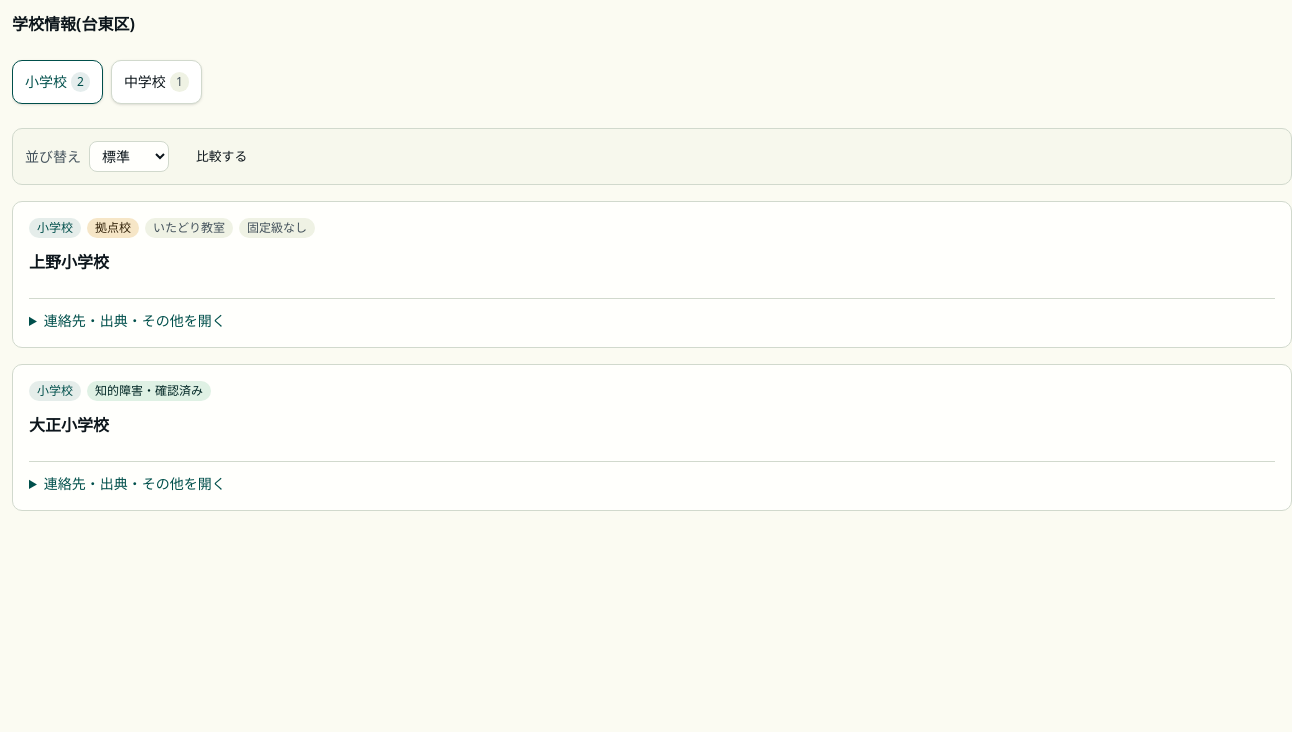
Test: SchoolInfoSection: 分類バッジのクリックによる絞り込み › バッジをクリックすると、そのバッジを持つ学校のみに絞り込み、絞り込み中のチップを表示する
The width and height of the screenshot is (1292, 732).
Click the button "いたどり教室" at (189, 228), box [145, 218, 233, 238]
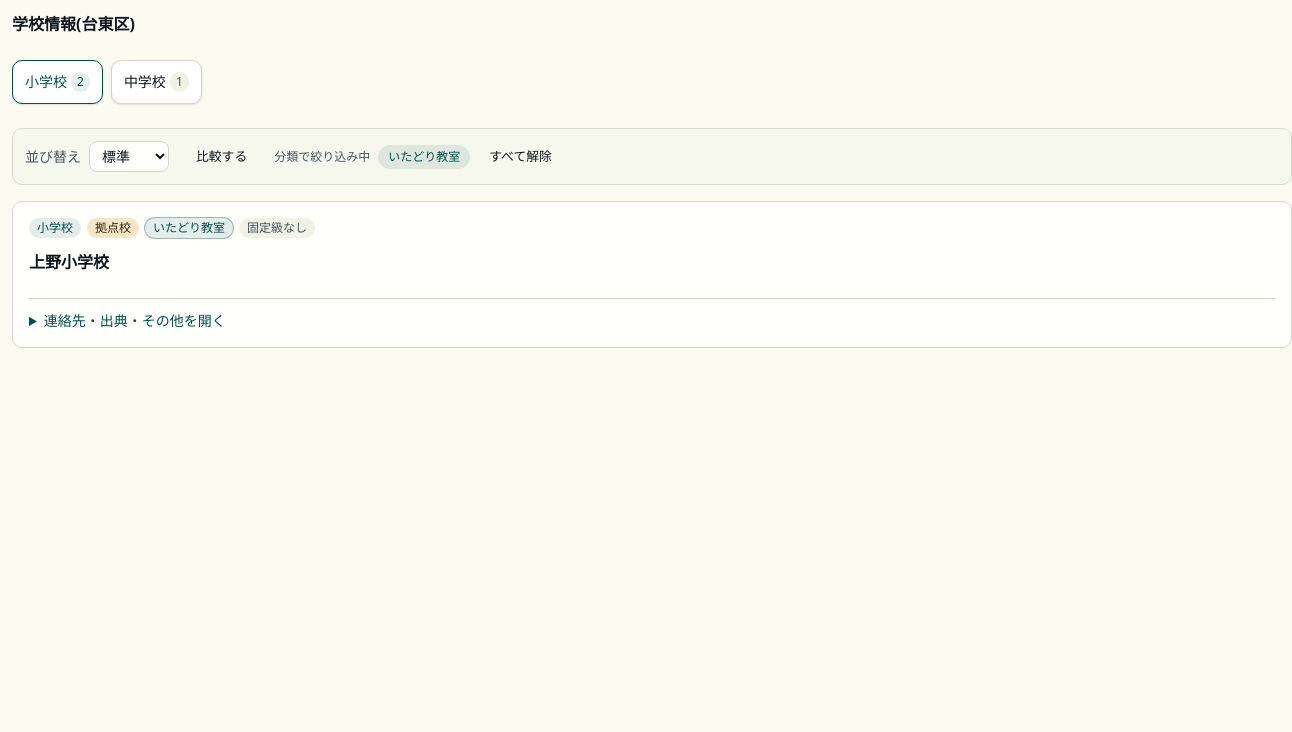
Expected: the heading "上野小学校" is shown, [29, 251, 109, 273]
Expected: the heading "大正小学校" is gone
Expected: the button with aria-label "いたどり教室の絞り込みを解除" is shown, [378, 144, 470, 168]
